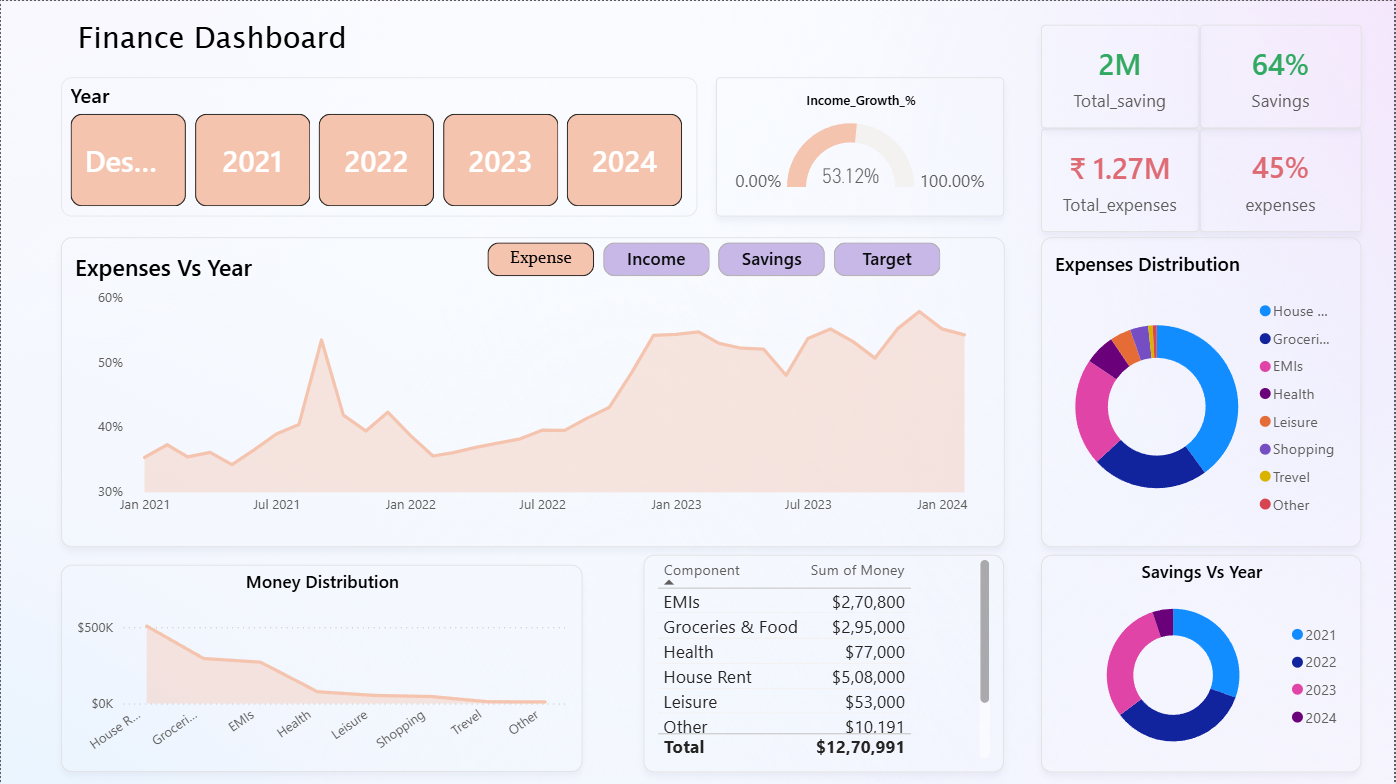

What the dashboard file says about the page in this screenshot:
{"tool":"powerbi","page":{"name":"Page 1","canvas":[1280,720],"ordinal":0},"visuals":[{"type":"card","fields":{"Values":["FinData.Saving_percentage"]},"box":[1101.2,22.1,148.8,95.3],"z":0},{"type":"card","fields":{"Values":["FinData.Total_expenses"]},"box":[955.8,117.4,145.3,95.3],"z":1000},{"type":"card","fields":{"Values":["FinData.expense_percentage"]},"box":[1101.2,117.4,148.8,95],"z":2000},{"type":"advancedSlicerVisual","fields":{"Values":["FinData.Year"]},"box":[54.7,69.8,584.9,127.9],"z":3000},{"type":"areaChart","fields":{"Category":["FinData.Date.Variation.Date Hierarchy.Year","FinData.Date.Variation.Date Hierarchy.Quarter","FinData.Date.Variation.Date Hierarchy.Month","FinData.Date.Variation.Date Hierarchy.Day"],"Y":["FinData.Line_selection_type"]},"box":[54.7,217.4,867.4,284.9],"z":4000},{"type":"advancedSlicerVisual","fields":{"Values":["FinData.Type"]},"box":[441.9,217.4,429.1,41.9],"z":5000},{"type":"donutChart","title":"Savings Vs Year","fields":{"Y":["FinData.Total_saving"],"Category":["FinData.Date.Variation.Date Hierarchy.Year","FinData.Date.Variation.Date Hierarchy.Quarter","FinData.Date.Variation.Date Hierarchy.Month","FinData.Date.Variation.Date Hierarchy.Day"]},"box":[955.8,509.3,294.2,200],"z":6000},{"type":"donutChart","title":"Expenses Distribution","fields":{"Category":["FinData.Component"],"Y":["FinData.Total_money"]},"box":[955.8,217.4,294.2,284.9],"z":7000},{"type":"tableEx","fields":{"Values":["FinData.Component","Sum(FinData.Money)"]},"box":[590.7,509.3,331.4,200],"z":8000},{"type":"areaChart","title":"Money  Distribution","fields":{"Y":["Sum(FinData.Money)"],"Category":["FinData.Component"]},"box":[54.7,518.6,479.1,190.7],"z":9000},{"type":"textbox","box":[65.1,9.3,291.9,70.9],"z":10000},{"type":"card","fields":{"Values":["FinData.Total_saving"]},"box":[955.8,22.1,145.3,95.3],"z":11000},{"type":"gauge","fields":{"Y":["FinData.Income_Growth_%"]},"box":[657,69.8,265.1,127.9],"z":12000}]}

Visuals, with their boxes in screenshot pixels (x1, y1, x2, y2), scaled from the page's 1280x720 canvas onto the 1396x784 screenshot:
card - FinData.Saving_percentage: BBox(1201, 24, 1363, 128)
card - FinData.Total_expenses: BBox(1042, 128, 1201, 232)
card - FinData.expense_percentage: BBox(1201, 128, 1363, 231)
advancedSlicerVisual - FinData.Year: BBox(60, 76, 698, 215)
areaChart - FinData.Date.Variation.Date Hierarchy.Year x FinData.Date.Variation.Date Hierarchy.Quarter: BBox(60, 237, 1006, 547)
advancedSlicerVisual - FinData.Type: BBox(482, 237, 950, 282)
"Savings Vs Year" donutChart: BBox(1042, 555, 1363, 772)
"Expenses Distribution" donutChart: BBox(1042, 237, 1363, 547)
tableEx - FinData.Component x Sum(FinData.Money): BBox(644, 555, 1006, 772)
"Money  Distribution" areaChart: BBox(60, 565, 582, 772)
textbox: BBox(71, 10, 389, 87)
card - FinData.Total_saving: BBox(1042, 24, 1201, 128)
gauge - FinData.Income_Growth_%: BBox(717, 76, 1006, 215)
